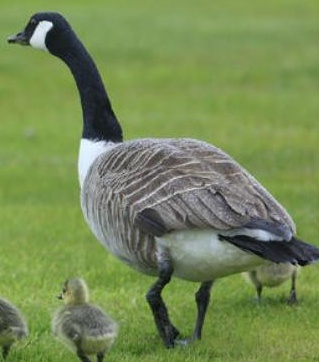goose: (4, 7, 319, 347)
